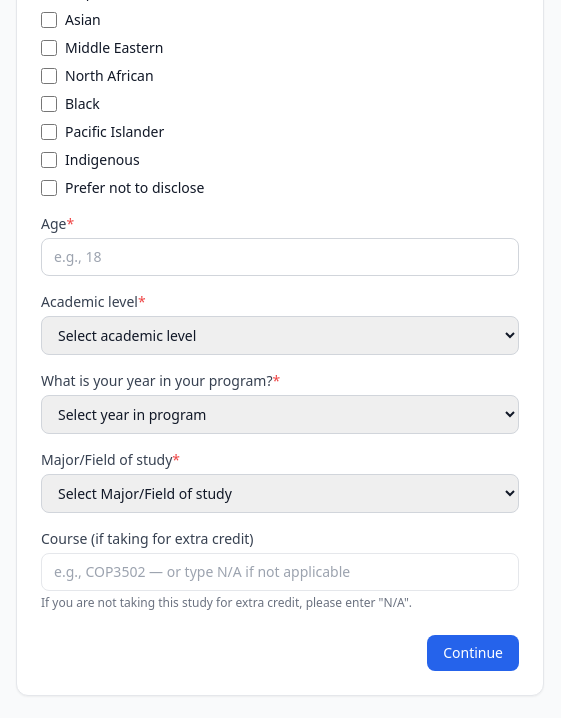
DemographicsPage › shows validation errors when submitting an empty form
(page scrolled)
Step 1. Click the button "Continue" → (473, 653), box [427,635,519,671]
(page scrolled)
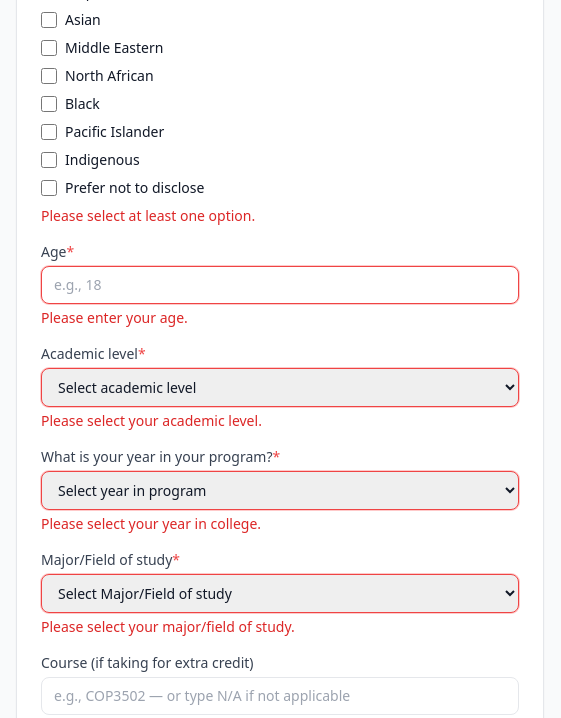
Check: the text "Please select at least one option." is shown, box [41,206,255,225]
Check: the text "Please select your academic level." is shown, box [41,411,262,430]
Check: the text "Please select your year in college." is shown, box [41,514,261,533]
